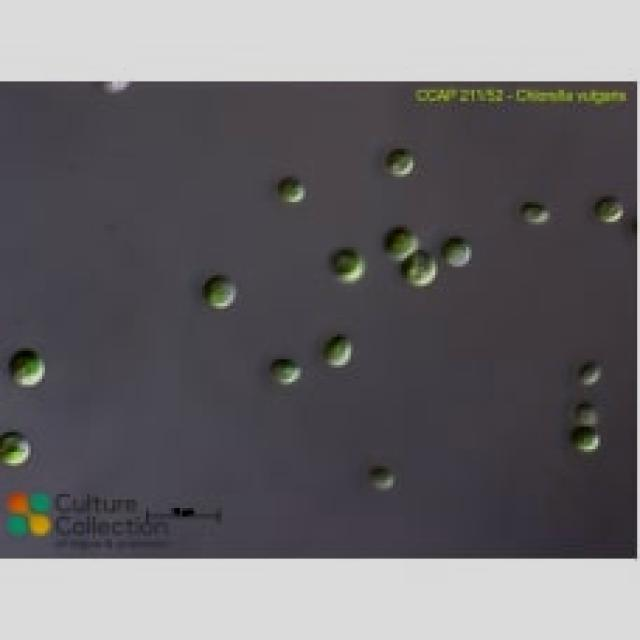Green Algae: (323, 244, 368, 284), (8, 348, 48, 387), (396, 250, 435, 289), (382, 219, 418, 258), (382, 138, 415, 180), (202, 275, 236, 312), (3, 426, 31, 468), (320, 334, 356, 365), (267, 357, 303, 388), (592, 196, 626, 228), (522, 196, 553, 228), (278, 174, 306, 208), (444, 236, 472, 269), (572, 359, 604, 385), (573, 421, 598, 452), (572, 401, 600, 424), (370, 466, 396, 488)
